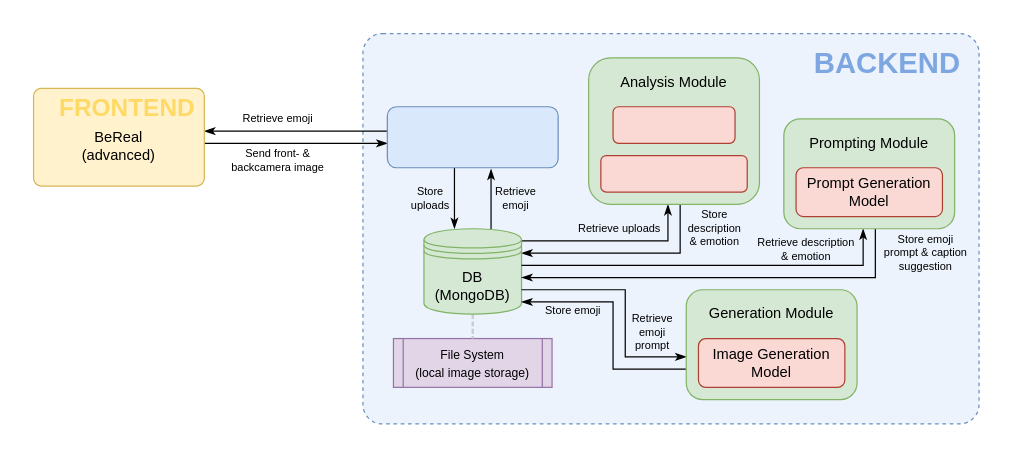
Image size: 1011x456. Some labels were removed from this diagram. Each missing label, with the centre of its shape:
"Middleware" (Express.js Server): pixel 472 137
Description Model: pixel 673 173
Emotion Model: pixel 673 124
